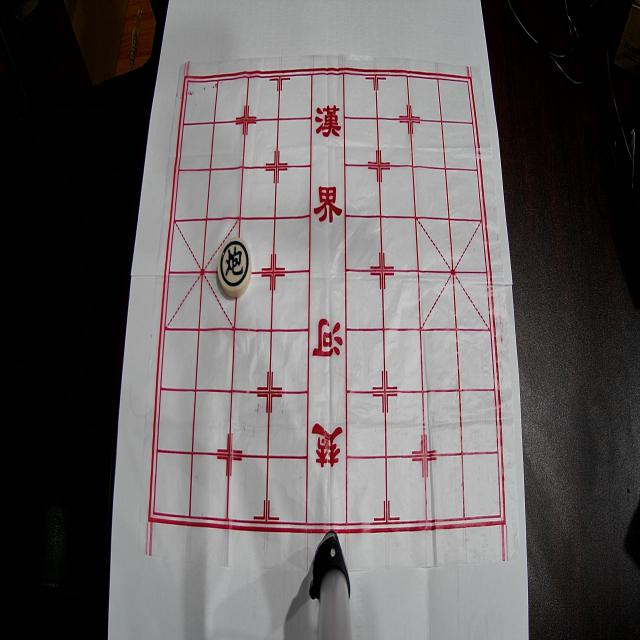black-cannon: (217, 238, 252, 296)
